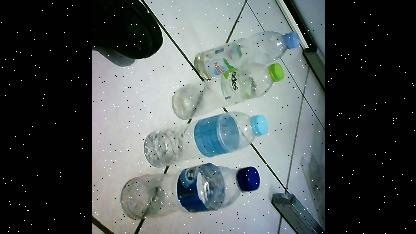Plastic Bottle: (122, 162, 258, 218), (144, 112, 266, 168), (171, 62, 282, 119), (196, 32, 298, 80)
